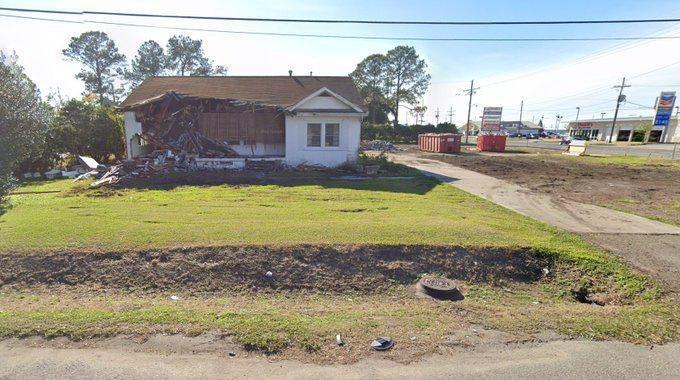major: (91, 64, 390, 191)
